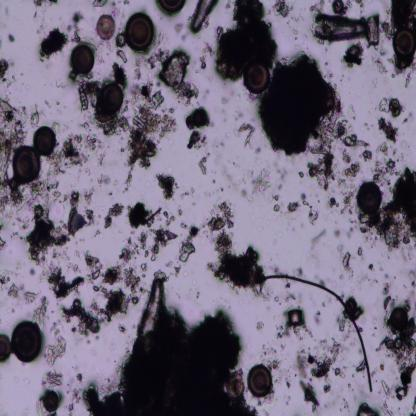Background material: (79, 310, 258, 416), (265, 59, 346, 158), (121, 83, 176, 191), (298, 134, 394, 188), (214, 0, 270, 79), (208, 230, 266, 294), (23, 184, 68, 264), (0, 96, 24, 214), (380, 167, 416, 244), (378, 334, 416, 404), (156, 47, 198, 103), (46, 135, 106, 174), (304, 334, 345, 382), (240, 159, 278, 207), (328, 187, 360, 237), (82, 250, 123, 286), (61, 302, 101, 338), (45, 264, 83, 300), (94, 284, 131, 320), (76, 76, 102, 124), (38, 27, 69, 60), (203, 201, 236, 232), (119, 231, 150, 264), (148, 227, 178, 261), (128, 201, 164, 229), (385, 0, 416, 30), (45, 323, 67, 365), (178, 222, 199, 266), (378, 276, 399, 319), (295, 378, 321, 412), (65, 368, 85, 412), (102, 111, 132, 138), (155, 170, 177, 201), (392, 61, 416, 89), (369, 16, 389, 48), (344, 40, 366, 69), (124, 267, 142, 302), (270, 284, 302, 303), (102, 202, 124, 228), (377, 117, 399, 143), (378, 96, 404, 118), (67, 186, 94, 207), (32, 294, 49, 327), (40, 367, 64, 389), (339, 97, 360, 122), (238, 120, 255, 150), (117, 29, 130, 67), (354, 400, 382, 416), (110, 62, 128, 86), (201, 44, 217, 69), (186, 131, 206, 151), (272, 1, 293, 20), (347, 293, 362, 319), (71, 11, 83, 43), (403, 268, 416, 295), (23, 288, 40, 307), (310, 228, 326, 248), (339, 312, 350, 341), (32, 1, 60, 12), (312, 303, 326, 324), (340, 249, 352, 273), (51, 76, 71, 90), (373, 57, 388, 75), (7, 282, 21, 301), (344, 0, 366, 12), (95, 174, 111, 190), (0, 267, 10, 291), (271, 191, 280, 215), (0, 57, 10, 78), (352, 240, 364, 257), (117, 321, 130, 336), (198, 157, 208, 176), (307, 208, 319, 223), (30, 110, 40, 127), (287, 200, 299, 213), (164, 210, 175, 224), (24, 267, 38, 278), (356, 357, 365, 374), (220, 94, 230, 107), (0, 235, 7, 253), (7, 32, 18, 43), (177, 202, 183, 218), (368, 262, 376, 270)
Diatom: (134, 266, 170, 339), (312, 12, 368, 44), (11, 322, 44, 364), (126, 11, 156, 52), (12, 144, 42, 184), (243, 61, 272, 95), (190, 1, 218, 35), (247, 364, 274, 399), (357, 180, 382, 214), (100, 80, 124, 112), (33, 125, 57, 157), (392, 28, 416, 59), (71, 45, 95, 76), (222, 369, 246, 399), (63, 207, 88, 233), (95, 14, 116, 41), (387, 309, 409, 334), (158, 0, 186, 15), (286, 306, 305, 327), (192, 106, 209, 129), (0, 334, 12, 363), (42, 390, 60, 409), (332, 0, 344, 13), (357, 140, 369, 146)
Natural material: (261, 274, 373, 392)
